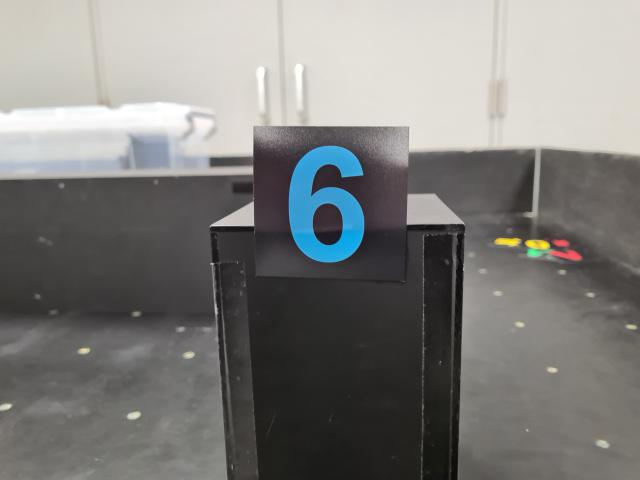six: (251, 124, 409, 282)
